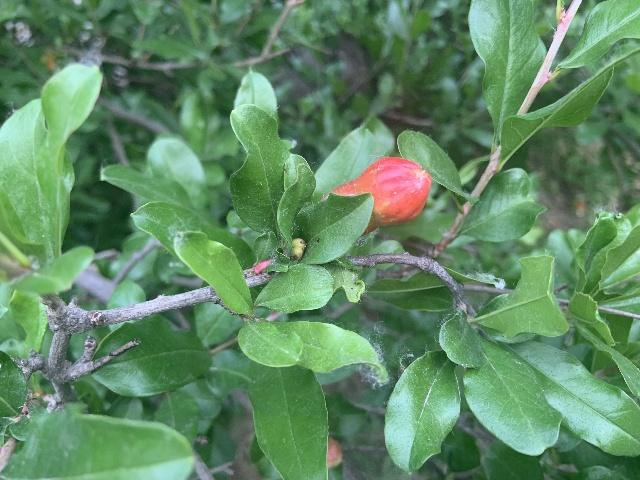bud: (324, 156, 430, 235)
